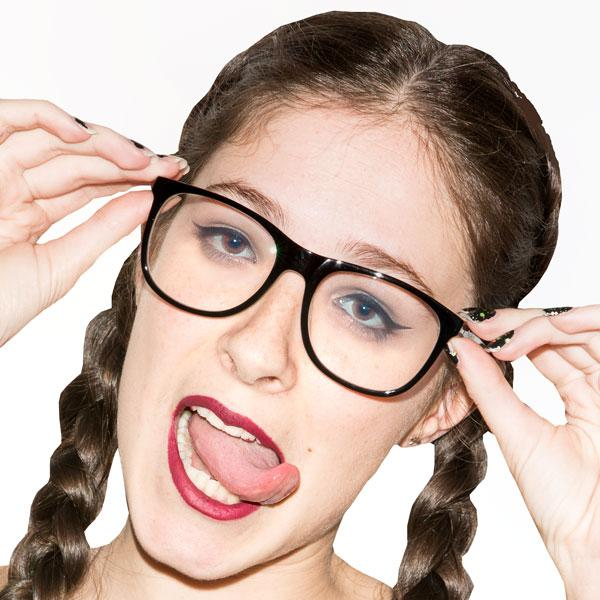Eyes: (324, 282, 408, 349), (186, 211, 263, 272)
